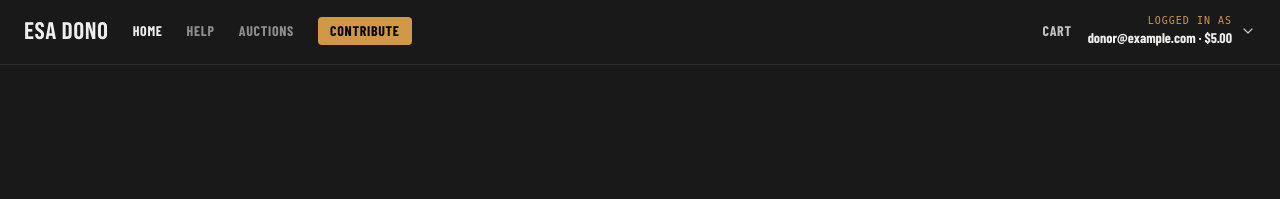
it: Navbar › shows moderate but not admin for a MODERATOR donor
Click the text "donor@example.com · $5.00" at (1160, 38), box [1088, 28, 1232, 48]
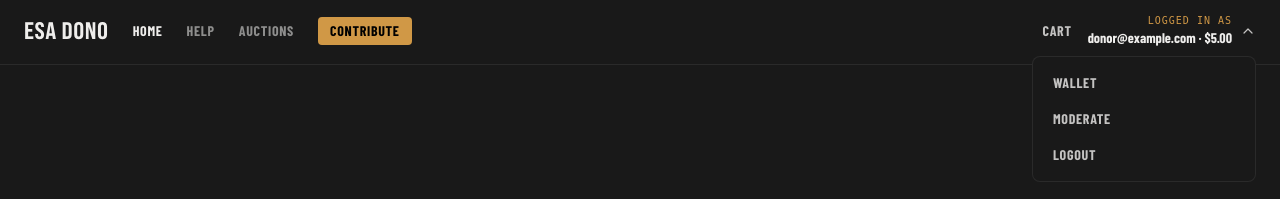
Result: the link "moderate" is shown at [1053, 110, 1111, 126]
